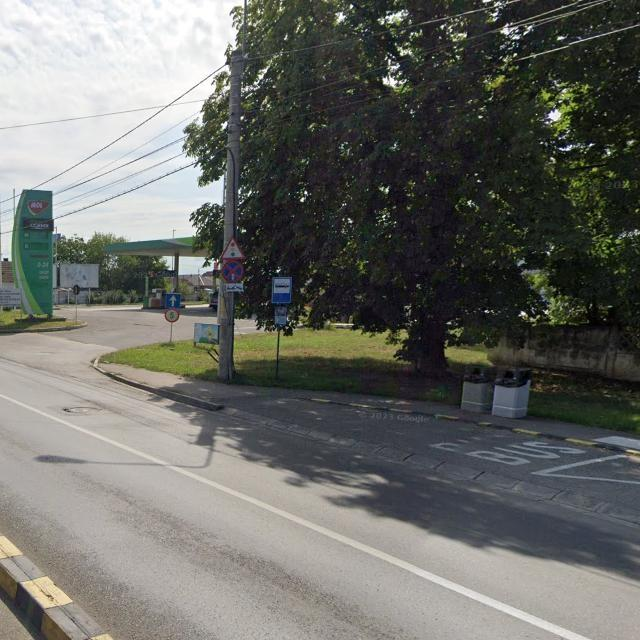forb_waiting: (222, 260, 244, 283)
